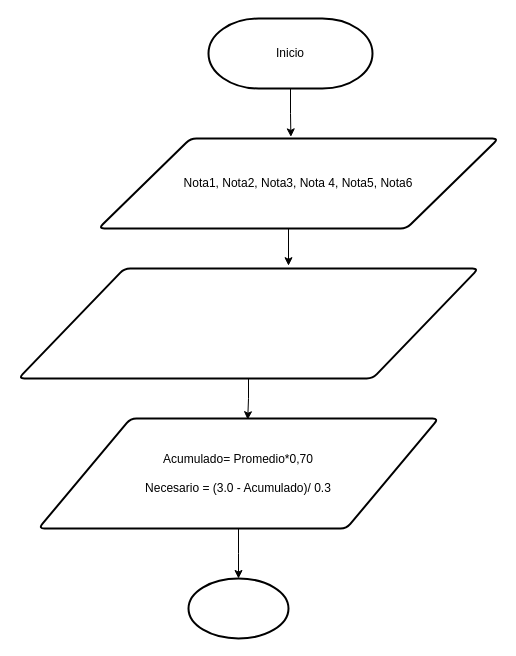
The diagram is 516 pixels wide and 656 high, and some of its shapes have lost their labels. Each missing label, with the centre of its shape:
Fin: the point at 238,608
Total= Nota1 + Nota2 + Nota3 + Nota4 + Nota5 + Nota6 Promedio= Total/6: the point at 248,323
